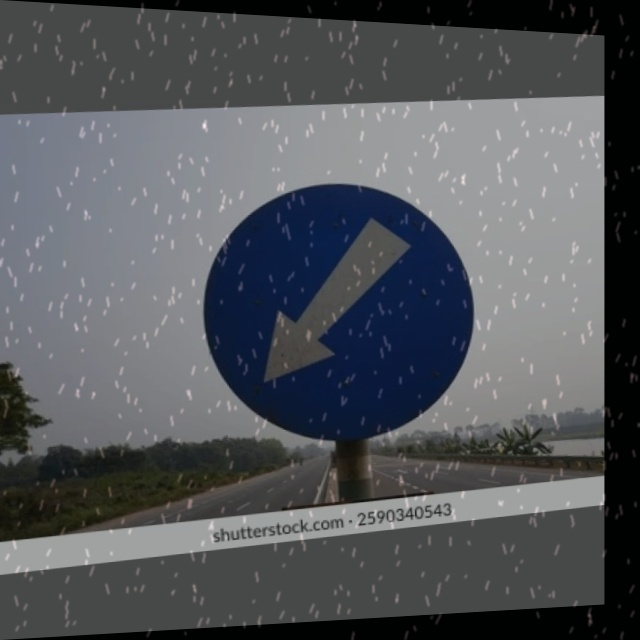Compulsory_Keep_Left: (196, 170, 480, 456)
